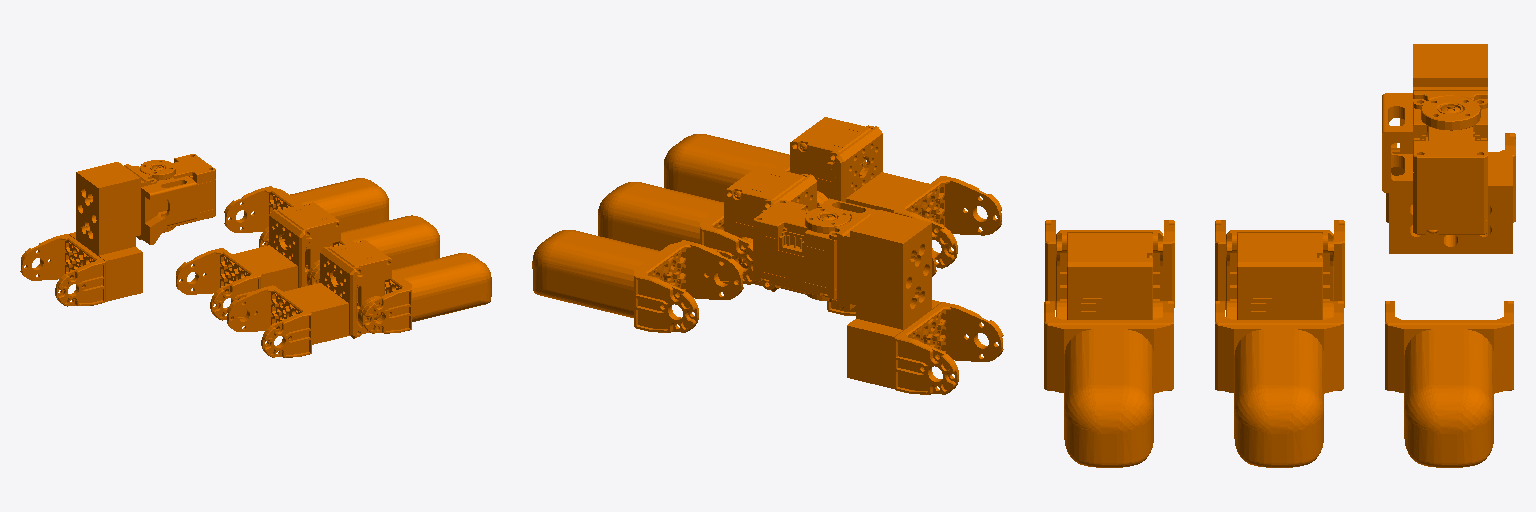
URDF robot description (onshape):
<robot name="onshape">
  <link name="palm_lower">
    <inertial>
      <origin xyz="0.0 0.0 0.0" rpy="0.0 -0.0 0.0"/>
      <mass value="0.237"/>
      <inertia ixx="0.000354094" ixy="-1.193e-06" ixz="-2.445e-06" iyy="0.000260915" iyz="-2.905e-06" izz="0.000529257"/>
    </inertial>
    <visual>
      <geometry>
        <mesh filename="../assets/leap/leap_hand/palm_lower.stl"/>
      </geometry>
      <origin xyz="-0.020095249652862544 0.025757756134899473 -0.034722403578460216" rpy="0.0 -0.0 0.0"/>
      <material name="palm_lower_material">
        <color rgba="0.6039215686274509 0.14901960784313725 0.14901960784313725 1.0"/>
      </material>
    </visual>
    <collision>
      <geometry>
        <mesh filename="../assets/leap/leap_hand/palm_lower.stl"/>
      </geometry>
      <origin xyz="-0.020095249652862544 0.025757756134899473 -0.034722403578460216" rpy="0.0 -0.0 0.0"/>
    </collision>
  </link>
  <link name="mcp_joint_long">
    <inertial>
      <origin xyz="0.0 0.0 0.0" rpy="0.0 -0.0 0.0"/>
      <mass value="0.044"/>
      <inertia ixx="1.1499e-05" ixy="3.049e-06" ixz="1.21e-07" iyy="7.796e-06" iyz="1.12e-07" izz="1.4759e-05"/>
    </inertial>
    <visual>
      <geometry>
        <mesh filename="custom_models/mcp_joint_long.stl"/>
      </geometry>
      <origin xyz="0.008406902261174496 0.0077662438597169954 0.014657354985032912" rpy="1.6375789613221e-15 -1.021047330249102e-30 1.7177968783327987e-31"/>
      <material name="mcp_joint_material">
        <color rgba="0.878 0.467 0.0 1.0"/>
      </material>
    </visual>
    <collision>
      <geometry>
        <mesh filename="custom_models/mcp_joint_long.stl"/>
      </geometry>
      <origin xyz="0.008406902261174496 0.0077662438597169954 0.014657354985032912" rpy="1.6375789613221e-15 -1.021047330249102e-30 1.7177968783327987e-31"/>
    </collision>
  </link>
  <link name="pip">
    <inertial>
      <origin xyz="0.0 0.0 0.0" rpy="0.0 -0.0 0.0"/>
      <mass value="0.032"/>
      <inertia ixx="4.798e-06" ixy="1.2e-08" ixz="4e-09" iyy="2.862e-06" iyz="1.1e-08" izz="4.234e-06"/>
    </inertial>
    <visual>
      <geometry>
        <mesh filename="../assets/leap/leap_hand/pip.stl"/>
      </geometry>
      <origin xyz="0.009643363092271328 0.0002999999999999895 0.0007840340104173765" rpy="-1.5707963267948966 -1.5707963267948963 0.0"/>
      <material name="pip_material">
        <color rgba="0.7490196078431373 0.7490196078431373 0.7490196078431373 1.0"/>
      </material>
    </visual>
    <collision>
      <geometry>
        <mesh filename="../assets/leap/leap_hand/pip.stl"/>
      </geometry>
      <origin xyz="0.009643363092271328 0.0002999999999999895 0.0007840340104173765" rpy="-1.5707963267948966 -1.5707963267948963 0.0"/>
    </collision>
  </link>
  <link name="dip">
    <inertial>
      <origin xyz="0.0 0.0 0.0" rpy="0.0 -0.0 0.0"/>
      <mass value="0.037"/>
      <inertia ixx="5.542e-06" ixy="-6.07e-07" ixz="-1.7e-08" iyy="5.727e-06" iyz="-2.3e-08" izz="6.682e-06"/>
    </inertial>
    <visual>
      <geometry>
        <mesh filename="../assets/leap/leap_hand/dip.stl"/>
      </geometry>
      <origin xyz="0.021133352895225003 -0.00843211914670488 0.00978508816209524" rpy="-3.141592653589793 4.507511124216441e-32 4.439548105392361e-32"/>
      <material name="dip_material">
        <color rgba="0.8666666666666667 0.8666666666666667 0.050980392156862744 1.0"/>
      </material>
    </visual>
    <collision>
      <geometry>
        <mesh filename="../assets/leap/leap_hand/dip.stl"/>
      </geometry>
      <origin xyz="0.021133352895225003 -0.00843211914670488 0.00978508816209524" rpy="-3.141592653589793 4.507511124216441e-32 4.439548105392361e-32"/>
    </collision>
  </link>
  <link name="fingertip_long">
    <inertial>
      <origin xyz="0.0 0.0 0.0" rpy="0.0 -0.0 0.0"/>
      <mass value="0.016"/>
      <inertia ixx="3.368e-06" ixy="1.15e-07" ixz="0.0" iyy="1.556e-06" iyz="0.0" izz="2.863e-06"/>
    </inertial>
    <visual>
      <geometry>
        <mesh filename="custom_models/fingertip_long.stl"/>
      </geometry>
      <origin xyz="0.013286424108533503 -0.006114238386541987 0.014499999999999498" rpy="3.141592653589793 1.1993117970061735e-33 4.439548105392361e-32"/>
      <material name="fingertip_material">
        <color rgba="0.878 0.467 0.0 1.0"/>
      </material>
    </visual>
    <collision>
      <geometry>
        <mesh filename="custom_models/fingertip_long.stl"/>
      </geometry>
      <origin xyz="0.013286424108533503 -0.006114238386541987 0.014499999999999498" rpy="3.141592653589793 1.1993117970061735e-33 4.439548105392361e-32"/>
    </collision>
  </link>
  <link name="pip_4">
    <inertial>
      <origin xyz="0.0 0.0 0.0" rpy="0.0 -0.0 0.0"/>
      <mass value="0.032"/>
      <inertia ixx="4.798e-06" ixy="1.2e-08" ixz="4e-09" iyy="2.862e-06" iyz="1.1e-08" izz="4.234e-06"/>
    </inertial>
    <visual>
      <geometry>
        <mesh filename="../assets/leap/leap_hand/pip.stl"/>
      </geometry>
      <origin xyz="-0.005356636907728671 0.0002999999999999999 0.0007840340104173782" rpy="-1.5707963267948966 -1.5707963267948963 0.0"/>
      <material name="pip_material">
        <color rgba="0.7490196078431373 0.7490196078431373 0.7490196078431373 1.0"/>
      </material>
    </visual>
    <collision>
      <geometry>
        <mesh filename="../assets/leap/leap_hand/pip.stl"/>
      </geometry>
      <origin xyz="-0.005356636907728671 0.0002999999999999999 0.0007840340104173782" rpy="-1.5707963267948966 -1.5707963267948963 0.0"/>
    </collision>
  </link>
  <link name="thumb_pip">
    <inertial>
      <origin xyz="0.0 0.0 0.0" rpy="0.0 -0.0 0.0"/>
      <mass value="0.003"/>
      <inertia ixx="5.93e-07" ixy="0.0" ixz="0.0" iyy="5.49e-07" iyz="0.0" izz="2.24e-07"/>
    </inertial>
    <visual>
      <geometry>
        <mesh filename="../assets/leap/leap_hand/thumb_pip.stl"/>
      </geometry>
      <origin xyz="0.011961920770611187 -5.30825383648903e-16 -0.0158526489566642" rpy="1.5707963267948966 1.6050198443300153e-46 -3.9204996250525193e-59"/>
      <material name="thumb_pip_material">
        <color rgba="0.8666666666666667 0.8666666666666667 0.050980392156862744 1.0"/>
      </material>
    </visual>
    <collision>
      <geometry>
        <mesh filename="../assets/leap/leap_hand/thumb_pip.stl"/>
      </geometry>
      <origin xyz="0.011961920770611187 -5.30825383648903e-16 -0.0158526489566642" rpy="1.5707963267948966 1.6050198443300153e-46 -3.9204996250525193e-59"/>
    </collision>
  </link>
  <link name="thumb_dip">
    <inertial>
      <origin xyz="0.0 0.0 0.0" rpy="0.0 -0.0 0.0"/>
      <mass value="0.038"/>
      <inertia ixx="8.474e-06" ixy="2.41e-07" ixz="2.6e-08" iyy="3.841e-06" iyz="2.5e-08" izz="7.679e-06"/>
    </inertial>
    <visual>
      <geometry>
        <mesh filename="../assets/leap/leap_hand/thumb_dip.stl"/>
      </geometry>
      <origin xyz="0.043968715707239175 0.0579529529737092 -0.008628676449369476" rpy="1.94289029309401e-16 3.27515792264422e-15 1.112375852965736e-46"/>
      <material name="thumb_dip_material">
        <color rgba="0.8666666666666667 0.8666666666666667 0.050980392156862744 1.0"/>
      </material>
    </visual>
    <collision>
      <geometry>
        <mesh filename="../assets/leap/leap_hand/thumb_dip.stl"/>
      </geometry>
      <origin xyz="0.043968715707239175 0.0579529529737092 -0.008628676449369476" rpy="1.94289029309401e-16 3.27515792264422e-15 1.112375852965736e-46"/>
    </collision>
  </link>
  <link name="thumb_fingertip">
    <inertial>
      <origin xyz="0.0 0.0 0.0" rpy="0.0 -0.0 0.0"/>
      <mass value="0.049"/>
      <inertia ixx="2.0372e-05" ixy="-4.89e-07" ixz="-3e-08" iyy="4.336e-06" iyz="-9.7e-08" izz="1.9845e-05"/>
    </inertial>
    <visual>
      <geometry>
        <mesh filename="../assets/leap/leap_hand/thumb_fingertip.stl"/>
      </geometry>
      <origin xyz="0.06255953846266739 0.07845968291139699 0.048992911807332215" rpy="4.379057701015637e-47 -3.33066907387547e-16 1.2042408677791935e-46"/>
      <material name="thumb_fingertip_material">
        <color rgba="0.6039215686274509 0.14901960784313725 0.14901960784313725 1.0"/>
      </material>
    </visual>
    <collision>
      <geometry>
        <mesh filename="../assets/leap/leap_hand/thumb_fingertip.stl"/>
      </geometry>
      <origin xyz="0.06255953846266739 0.07845968291139699 0.048992911807332215" rpy="4.379057701015637e-47 -3.33066907387547e-16 1.2042408677791935e-46"/>
    </collision>
  </link>
  <link name="mcp_joint_2">
    <inertial>
      <origin xyz="0.0 0.0 0.0" rpy="0.0 -0.0 0.0"/>
      <mass value="0.044"/>
      <inertia ixx="1.1499e-05" ixy="3.049e-06" ixz="1.21e-07" iyy="7.796e-06" iyz="1.12e-07" izz="1.4759e-05"/>
    </inertial>
    <visual>
      <geometry>
        <mesh filename="../assets/leap/leap_hand/mcp_joint.stl"/>
      </geometry>
      <origin xyz="0.008406902261174496 0.0077662438597169954 0.014657354985032914" rpy="1.6375789613221e-15 -1.0076465469034e-30 2.1209300131419907e-61"/>
      <material name="mcp_joint_material">
        <color rgba="0.8666666666666667 0.8666666666666667 0.050980392156862744 1.0"/>
      </material>
    </visual>
    <collision>
      <geometry>
        <mesh filename="../assets/leap/leap_hand/mcp_joint.stl"/>
      </geometry>
      <origin xyz="0.008406902261174496 0.0077662438597169954 0.014657354985032914" rpy="1.6375789613221e-15 -1.0076465469034e-30 2.1209300131419907e-61"/>
    </collision>
  </link>
  <link name="pip_2">
    <inertial>
      <origin xyz="0.0 0.0 0.0" rpy="0.0 -0.0 0.0"/>
      <mass value="0.032"/>
      <inertia ixx="4.798e-06" ixy="1.2e-08" ixz="4e-09" iyy="2.862e-06" iyz="1.1e-08" izz="4.234e-06"/>
    </inertial>
    <visual>
      <geometry>
        <mesh filename="../assets/leap/leap_hand/pip.stl"/>
      </geometry>
      <origin xyz="0.009643363092271328 0.0002999999999999947 0.0007840340104173765" rpy="-1.5707963267948966 -1.5707963267948963 0.0"/>
      <material name="pip_material">
        <color rgba="0.7490196078431373 0.7490196078431373 0.7490196078431373 1.0"/>
      </material>
    </visual>
    <collision>
      <geometry>
        <mesh filename="../assets/leap/leap_hand/pip.stl"/>
      </geometry>
      <origin xyz="0.009643363092271328 0.0002999999999999947 0.0007840340104173765" rpy="-1.5707963267948966 -1.5707963267948963 0.0"/>
    </collision>
  </link>
  <link name="dip_2_long">
    <inertial>
      <origin xyz="0.0 0.0 0.0" rpy="0.0 -0.0 0.0"/>
      <mass value="0.037"/>
      <inertia ixx="5.542e-06" ixy="-6.07e-07" ixz="-1.7e-08" iyy="5.727e-06" iyz="-2.3e-08" izz="6.682e-06"/>
    </inertial>
    <visual>
      <geometry>
        <mesh filename="custom_models/dip_long.stl"/>
      </geometry>
      <origin xyz="0.021133352895225003 -0.008432119146704865 0.009785088162095237" rpy="-3.141592653589793 2.1146933785271956e-32 1.4408183216511869e-31"/>
      <material name="dip_material">
        <color rgba="0.878 0.467 0.0 1.0"/>
      </material>
    </visual>
    <collision>
      <geometry>
        <mesh filename="custom_models/dip_long.stl"/>
      </geometry>
      <origin xyz="0.021133352895225003 -0.008432119146704865 0.009785088162095237" rpy="-3.141592653589793 2.1146933785271956e-32 1.4408183216511869e-31"/>
    </collision>
  </link>
  <link name="fingertip_2_long">
    <inertial>
      <origin xyz="0.0 0.0 0.0" rpy="0.0 -0.0 0.0"/>
      <mass value="0.016"/>
      <inertia ixx="3.368e-06" ixy="1.15e-07" ixz="0.0" iyy="1.556e-06" iyz="0.0" izz="2.863e-06"/>
    </inertial>
    <visual>
      <geometry>
        <mesh filename="custom_models/fingertip_long.stl"/>
      </geometry>
      <origin xyz="0.013286424108533496 -0.006114238386542001 0.014499999999999496" rpy="3.141592653589793 -4.317959788283594e-33 1.4408183216511869e-31"/>
      <material name="fingertip_material">
        <color rgba="0.878 0.467 0.0 1.0"/>
      </material>
    </visual>
    <collision>
      <geometry>
        <mesh filename="custom_models/fingertip_long.stl"/>
      </geometry>
      <origin xyz="0.013286424108533496 -0.006114238386542001 0.014499999999999496" rpy="3.141592653589793 -4.317959788283594e-33 1.4408183216511869e-31"/>
    </collision>
  </link>
  <link name="mcp_joint_3">
    <inertial>
      <origin xyz="0.0 0.0 0.0" rpy="0.0 -0.0 0.0"/>
      <mass value="0.044"/>
      <inertia ixx="1.1499e-05" ixy="3.049e-06" ixz="1.21e-07" iyy="7.796e-06" iyz="1.12e-07" izz="1.4759e-05"/>
    </inertial>
    <visual>
      <geometry>
        <mesh filename="../assets/leap/leap_hand/mcp_joint.stl"/>
      </geometry>
      <origin xyz="0.0084069022611745 0.007766243859716996 0.014657354985032914" rpy="1.6375789613221e-15 -1.0059504988632627e-30 5.729641584552035e-32"/>
      <material name="mcp_joint_material">
        <color rgba="0.8666666666666667 0.8666666666666667 0.050980392156862744 1.0"/>
      </material>
    </visual>
    <collision>
      <geometry>
        <mesh filename="../assets/leap/leap_hand/mcp_joint.stl"/>
      </geometry>
      <origin xyz="0.0084069022611745 0.007766243859716996 0.014657354985032914" rpy="1.6375789613221e-15 -1.0059504988632627e-30 5.729641584552035e-32"/>
    </collision>
  </link>
  <link name="pip_3">
    <inertial>
      <origin xyz="0.0 0.0 0.0" rpy="0.0 -0.0 0.0"/>
      <mass value="0.032"/>
      <inertia ixx="4.798e-06" ixy="1.2e-08" ixz="4e-09" iyy="2.862e-06" iyz="1.1e-08" izz="4.234e-06"/>
    </inertial>
    <visual>
      <geometry>
        <mesh filename="../assets/leap/leap_hand/pip.stl"/>
      </geometry>
      <origin xyz="0.009643363092271331 0.00029999999999998084 0.0007840340104173765" rpy="-1.5707963267948966 -1.5707963267948963 0.0"/>
      <material name="pip_material">
        <color rgba="0.7490196078431373 0.7490196078431373 0.7490196078431373 1.0"/>
      </material>
    </visual>
    <collision>
      <geometry>
        <mesh filename="../assets/leap/leap_hand/pip.stl"/>
      </geometry>
      <origin xyz="0.009643363092271331 0.00029999999999998084 0.0007840340104173765" rpy="-1.5707963267948966 -1.5707963267948963 0.0"/>
    </collision>
  </link>
  <link name="dip_3_long">
    <inertial>
      <origin xyz="0.0 0.0 0.0" rpy="0.0 -0.0 0.0"/>
      <mass value="0.037"/>
      <inertia ixx="5.542e-06" ixy="-6.07e-07" ixz="-1.7e-08" iyy="5.727e-06" iyz="-2.3e-08" izz="6.682e-06"/>
    </inertial>
    <visual>
      <geometry>
        <mesh filename="custom_models/dip_long.stl"/>
      </geometry>
      <origin xyz="0.021133352895225006 -0.008432119146704865 0.009785088162095237" rpy="-3.141592653589793 -1.4095651113919093e-33 1.5565411607615035e-32"/>
      <material name="dip_material">
        <color rgba="0.878 0.467 0.0 1.0"/>
      </material>
    </visual>
    <collision>
      <geometry>
        <mesh filename="custom_models/dip_long.stl"/>
      </geometry>
      <origin xyz="0.021133352895225006 -0.008432119146704865 0.009785088162095237" rpy="-3.141592653589793 -1.4095651113919093e-33 1.5565411607615035e-32"/>
    </collision>
  </link>
  <link name="fingertip_3_long">
    <inertial>
      <origin xyz="0.0 0.0 0.0" rpy="0.0 -0.0 0.0"/>
      <mass value="0.016"/>
      <inertia ixx="3.368e-06" ixy="1.15e-07" ixz="0.0" iyy="1.556e-06" iyz="0.0" izz="2.863e-06"/>
    </inertial>
    <visual>
      <geometry>
        <mesh filename="custom_models/fingertip_long.stl"/>
      </geometry>
      <origin xyz="0.013286424108533501 -0.006114238386541987 0.0144999999999995" rpy="3.141592653589793 8.61707169505754e-33 1.5565411607615035e-32"/>
      <material name="fingertip_material">
        <color rgba="0.878 0.467 0.0 1.0"/>
      </material>
    </visual>
    <collision>
      <geometry>
        <mesh filename="custom_models/fingertip_long.stl"/>
      </geometry>
      <origin xyz="0.013286424108533501 -0.006114238386541987 0.0144999999999995" rpy="3.141592653589793 8.61707169505754e-33 1.5565411607615035e-32"/>
    </collision>
  </link>
  <joint name="1" type="revolute">
    <parent link="palm_lower"/>
    <child link="mcp_joint_long"/>
    <origin xyz="-0.007095249652862546 0.023057756134899472 -0.01872240357846022" rpy="1.570796326794895 1.5707963267948946 0.0"/>
    <axis xyz="0.0 0.0 -1.0"/>
    <limit effort="0.95" velocity="8.48" lower="-0.314" upper="2.23"/>
  </joint>
  <joint name="0" type="revolute">
    <parent link="mcp_joint_long"/>
    <child link="pip"/>
    <origin xyz="-0.012200000000000007713 0.053099999999999994982 0.014500000000000000736" rpy="-1.5707963267948966 -1.0065212660796337e-15 1.5707963267948943"/>
    <axis xyz="0.0 0.0 -1.0"/>
    <limit effort="0.95" velocity="8.48" lower="-1.047" upper="1.047"/>
  </joint>
  <joint name="2" type="revolute">
    <parent link="pip"/>
    <child link="dip"/>
    <origin xyz="0.014999999999999968 0.014299999999999905 -0.012999999999999824" rpy="1.570796326794896 -1.5707963267948963 0.0"/>
    <axis xyz="0.0 0.0 -1.0"/>
    <limit effort="0.95" velocity="8.48" lower="-0.506" upper="1.885"/>
  </joint>
  <joint name="3" type="revolute">
    <parent link="dip"/>
    <child link="fingertip_long"/>
    <origin xyz="-4.088058249557269e-09 -0.03610000421036737 0.0002000000000000786" rpy="4.5935029425113685e-17 -2.8730071914463795e-16 4.439548105392361e-32"/>
    <axis xyz="0.0 0.0 -1.0"/>
    <limit effort="0.95" velocity="8.48" lower="-0.366" upper="2.042"/>
  </joint>
  <joint name="12" type="revolute">
    <parent link="palm_lower"/>
    <child link="pip_4"/>
    <origin xyz="-0.06939524965286253 -0.0012422438651005258 -0.021622403578460216" rpy="-8.238176646493942e-17 1.5707963267948957 0.0"/>
    <axis xyz="0.0 0.0 -1.0"/>
    <limit effort="0.95" velocity="8.48" lower="-0.349" upper="2.094"/>
  </joint>
  <joint name="13" type="revolute">
    <parent link="pip_4"/>
    <child link="thumb_pip"/>
    <origin xyz="-2.7755575615628914e-17 0.014300000000000005 -0.013000000000000012" rpy="1.570796326794896 -1.5707963267948963 0.0"/>
    <axis xyz="0.0 0.0 -1.0"/>
    <limit effort="0.95" velocity="8.48" lower="-0.47" upper="2.443"/>
  </joint>
  <joint name="14" type="revolute">
    <parent link="thumb_pip"/>
    <child link="thumb_dip"/>
    <origin xyz="0.0 0.014499999999999966 -0.017000000000000053" rpy="-1.5707963267948966 1.6050198443300131e-46 -1.9721522630516625e-31"/>
    <axis xyz="0.0 0.0 -1.0"/>
    <limit effort="0.95" velocity="8.48" lower="-1.2" upper="1.9"/>
  </joint>
  <joint name="15" type="revolute">
    <parent link="thumb_dip"/>
    <child link="thumb_fingertip"/>
    <origin xyz="-1.249000902703301e-16 0.046599999999999864 0.0001999999999999771" rpy="1.506395849149178e-44 5.423418723393526e-31 3.141592653589793"/>
    <axis xyz="0.0 0.0 -1.0"/>
    <limit effort="0.95" velocity="8.48" lower="-1.34" upper="1.88"/>
  </joint>
  <joint name="5" type="revolute">
    <parent link="palm_lower"/>
    <child link="mcp_joint_2"/>
    <origin xyz="-0.007095249652862546 -0.022392243865100525 -0.01872240357846022" rpy="1.570796326794895 1.5707963267948946 0.0"/>
    <axis xyz="0.0 0.0 -1.0"/>
    <limit effort="0.95" velocity="8.48" lower="-0.314" upper="2.23"/>
  </joint>
  <joint name="4" type="revolute">
    <parent link="mcp_joint_2"/>
    <child link="pip_2"/>
    <origin xyz="-0.012200000000000008 0.038099999999999995 0.0145" rpy="-1.5707963267948966 -1.0065212660796337e-15 1.5707963267948943"/>
    <axis xyz="0.0 0.0 -1.0"/>
    <limit effort="0.95" velocity="8.48" lower="-1.047" upper="1.047"/>
  </joint>
  <joint name="6" type="revolute">
    <parent link="pip_2"/>
    <child link="dip_2_long"/>
    <origin xyz="0.014999999999999968 0.014299999999999905 -0.012999999999999824" rpy="1.570796326794896 -1.5707963267948963 0.0"/>
    <axis xyz="0.0 0.0 -1.0"/>
    <limit effort="0.95" velocity="8.48" lower="-0.506" upper="1.885"/>
  </joint>
  <joint name="7" type="revolute">
    <parent link="dip_2_long"/>
    <child link="fingertip_2_long"/>
    <origin xyz="-4.0880582495572692636e-09 -0.051100004210367367397 0.00020000000000007858714" rpy="4.5935029425113685e-17 -2.8730071914463795e-16 4.439548105392361e-32"/>
    <axis xyz="0.0 0.0 -1.0"/>
    <limit effort="0.95" velocity="8.48" lower="-0.366" upper="2.042"/>
  </joint>
  <joint name="9" type="revolute">
    <parent link="palm_lower"/>
    <child link="mcp_joint_3"/>
    <origin xyz="-0.007095249652862546 -0.06784224386510052 -0.01872240357846022" rpy="1.570796326794895 1.5707963267948946 0.0"/>
    <axis xyz="0.0 0.0 -1.0"/>
    <limit effort="0.95" velocity="8.48" lower="-0.314" upper="2.23"/>
  </joint>
  <joint name="8" type="revolute">
    <parent link="mcp_joint_3"/>
    <child link="pip_3"/>
    <origin xyz="-0.012200000000000008 0.038099999999999995 0.0145" rpy="-1.5707963267948966 -1.0065212660796337e-15 1.5707963267948943"/>
    <axis xyz="0.0 0.0 -1.0"/>
    <limit effort="0.95" velocity="8.48" lower="-1.047" upper="1.047"/>
  </joint>
  <joint name="10" type="revolute">
    <parent link="pip_3"/>
    <child link="dip_3_long"/>
    <origin xyz="0.014999999999999968 0.014299999999999905 -0.012999999999999824" rpy="1.570796326794896 -1.5707963267948963 0.0"/>
    <axis xyz="0.0 0.0 -1.0"/>
    <limit effort="0.95" velocity="8.48" lower="-0.506" upper="1.885"/>
  </joint>
  <joint name="11" type="revolute">
    <parent link="dip_3_long"/>
    <child link="fingertip_3_long"/>
    <origin xyz="-4.0880582495572692636e-09 -0.051100004210367367397 0.00020000000000007858714" rpy="4.5935029425113685e-17 -2.8730071914463795e-16 4.439548105392361e-32"/>
    <axis xyz="0.0 0.0 -1.0"/>
    <limit effort="0.95" velocity="8.48" lower="-0.366" upper="2.042"/>
  </joint>
</robot>

--- Facts derived from the render (not from the file) ---
3 views of the same robot in one strip: view 1: azimuth 30°, elevation 25°; view 2: azimuth 150°, elevation 25°; view 3: azimuth 270°, elevation 25° (orthographic).
Model onshape with 17 links and 16 joints (16 revolute), rooted at palm_lower, posed all joints at 0.
Visible links, largest first — view 1: mcp_joint_long, dip_3_long, dip_2_long, fingertip_3_long, fingertip_long, fingertip_2_long; view 2: mcp_joint_long, fingertip_long, dip_3_long, fingertip_2_long, fingertip_3_long, dip_2_long; view 3: mcp_joint_long, fingertip_3_long, fingertip_long, fingertip_2_long, dip_2_long, dip_3_long.
Link boxes in pixels (box(x1,y1,x2,y2)): mcp_joint_long: box(20, 154, 215, 306); dip_3_long: box(227, 240, 391, 357); dip_2_long: box(176, 202, 340, 320); fingertip_3_long: box(361, 253, 491, 333); fingertip_long: box(224, 178, 388, 247); fingertip_2_long: box(310, 215, 439, 284); mcp_joint_long: box(753, 198, 1003, 394); fingertip_long: box(532, 230, 743, 332); dip_3_long: box(790, 117, 1001, 268); fingertip_2_long: box(598, 182, 756, 284); fingertip_3_long: box(664, 134, 823, 207); dip_2_long: box(724, 165, 936, 315); mcp_joint_long: box(1382, 44, 1515, 253); fingertip_3_long: box(1044, 301, 1173, 467); fingertip_long: box(1385, 301, 1513, 467); fingertip_2_long: box(1215, 301, 1343, 467); dip_2_long: box(1215, 220, 1344, 319); dip_3_long: box(1045, 220, 1174, 319).
Bounding box of the posed robot: 0.1766 × 0.1259 × 0.0549 m (x, y, z).
6 mesh visuals loaded from 10 distinct referenced files (3 binary STL); not drawn: 11 (reference not matched to a file when rendering).